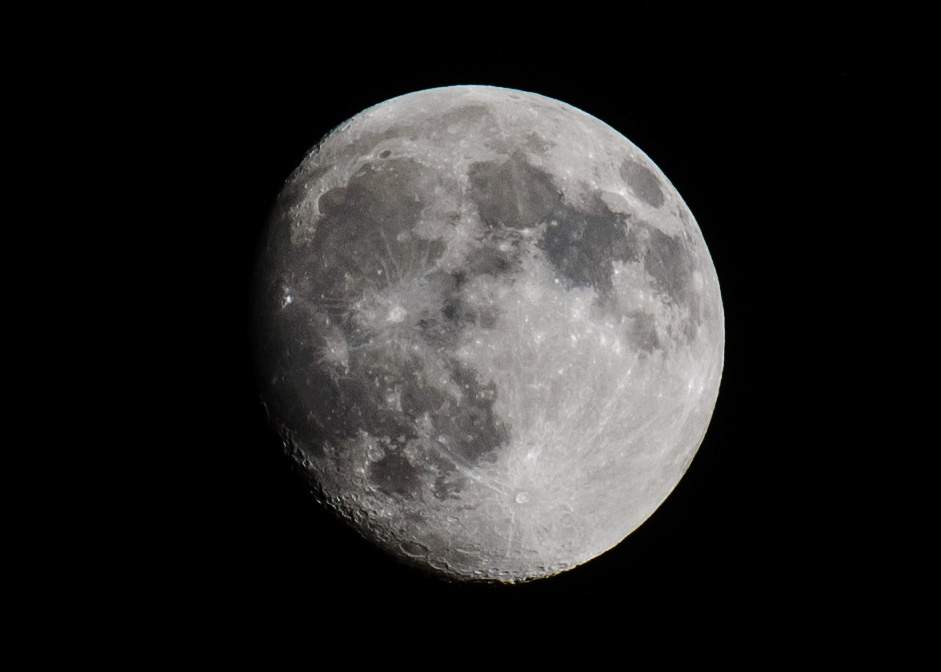crater: (362, 287, 440, 348), (392, 535, 435, 559), (489, 235, 524, 260), (359, 441, 390, 466), (372, 143, 399, 169), (510, 488, 536, 511), (433, 430, 458, 448), (613, 185, 630, 201), (418, 206, 438, 219), (503, 92, 524, 103), (584, 151, 600, 162)
